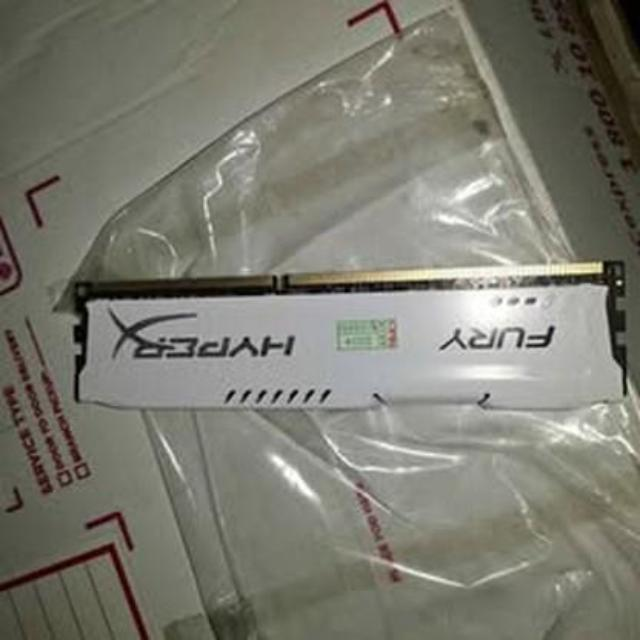RAM: (75, 261, 640, 421)
